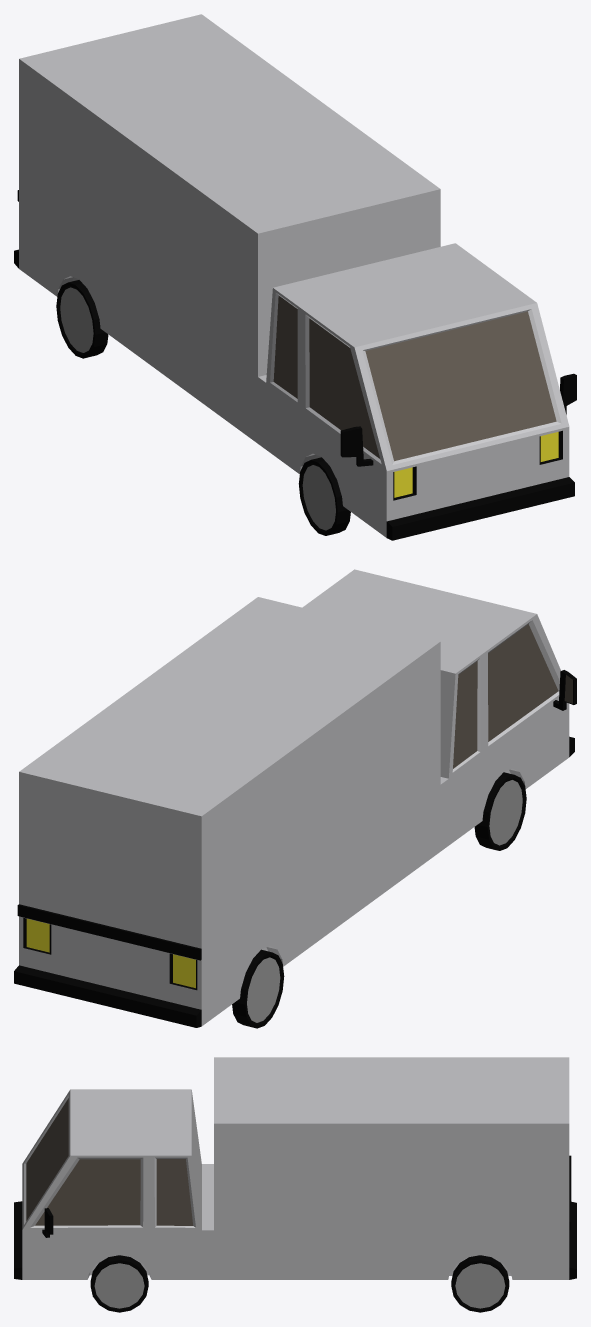
The model's file is Delivery Truck 1.fbx.
3 views of the same model, one above another, from view 1: azimuth 30°, elevation 25°; view 2: azimuth 150°, elevation 25°; view 3: azimuth 270°, elevation 25° (orthographic). The views are drawn at different scales.
Visible parts, largest first — view 1: Delivery Truck Body.001, Wheel FR.010, Wheel RR.009; view 2: Delivery Truck Body.001, Wheel FR.010, Wheel RR.009; view 3: Delivery Truck Body.001, Wheel RL.009, Wheel FL.010.
Part boxes in pixels (x1,y1,x2,y2): Delivery Truck Body.001: [14, 14, 576, 540]; Wheel FR.010: [298, 457, 350, 535]; Wheel RR.009: [56, 280, 108, 358]; Delivery Truck Body.001: [14, 569, 576, 1027]; Wheel FR.010: [474, 772, 526, 850]; Wheel RR.009: [232, 949, 284, 1028]; Delivery Truck Body.001: [14, 1057, 576, 1279]; Wheel RL.009: [451, 1255, 509, 1312]; Wheel FL.010: [90, 1255, 148, 1312].
Bounding box in the file's own units: 1.91 × 1.96 × 5.34.
